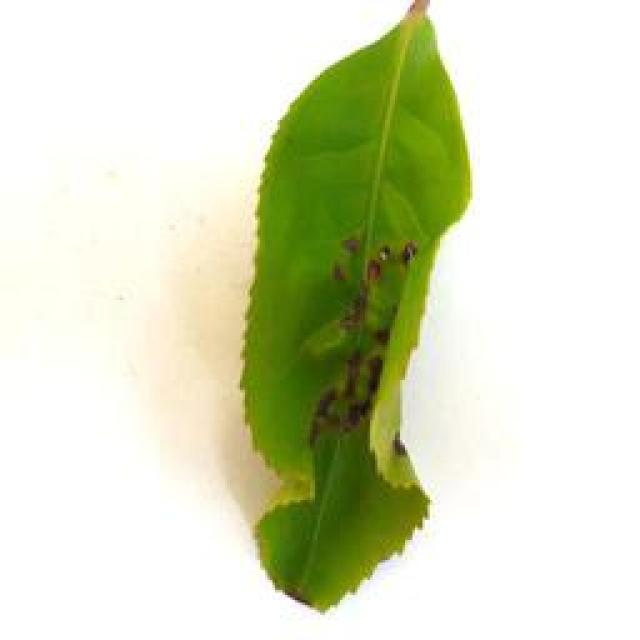Helopeltis: (211, 4, 483, 627)
